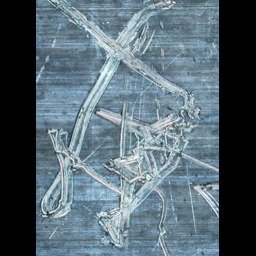d: (59, 0, 195, 119), (99, 92, 202, 195), (39, 120, 89, 225), (92, 191, 137, 252), (143, 184, 171, 255), (185, 173, 219, 224)
